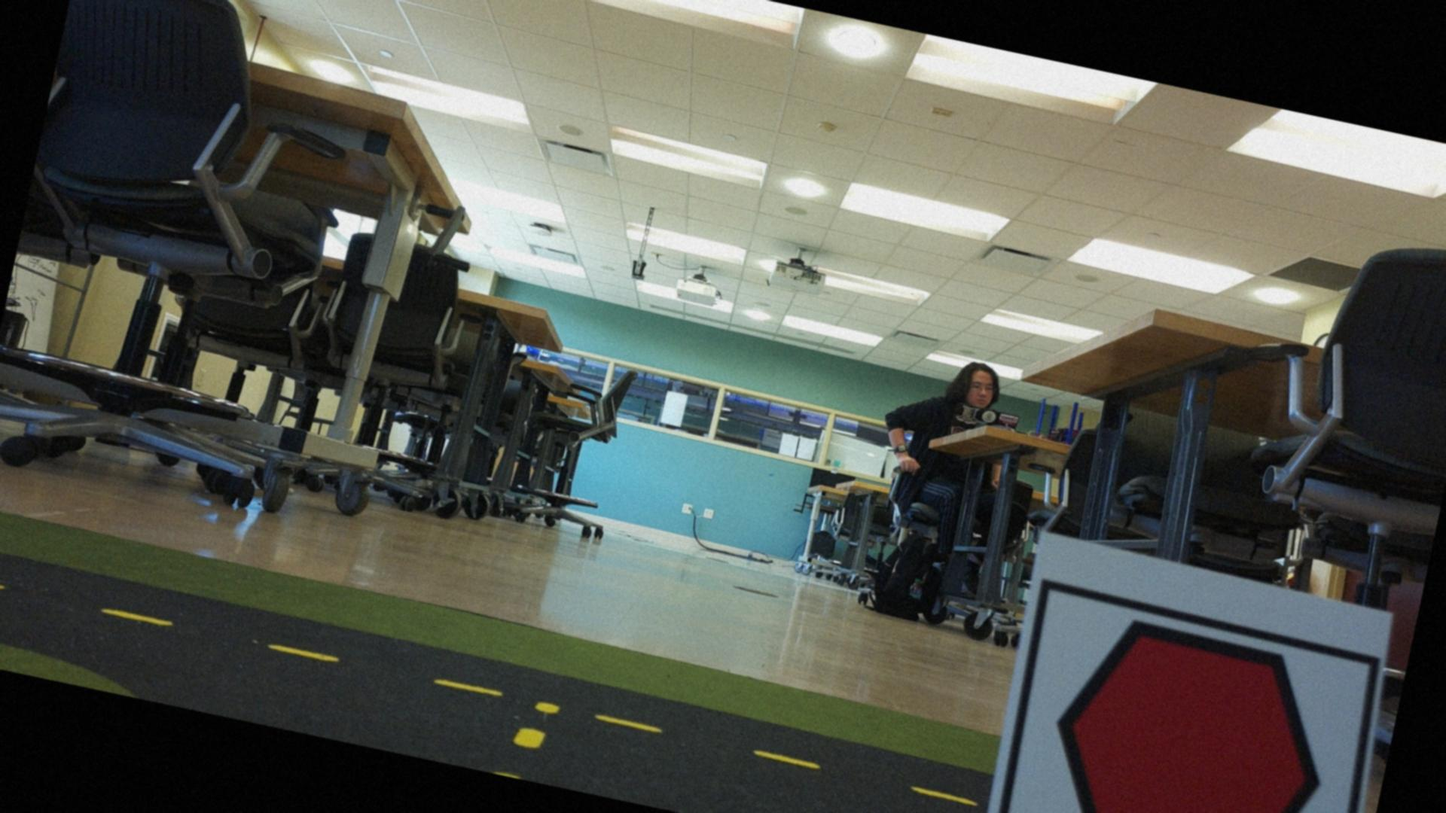stop: (985, 587, 1375, 812)
yellowline: (0, 565, 976, 805), (503, 694, 564, 758)
